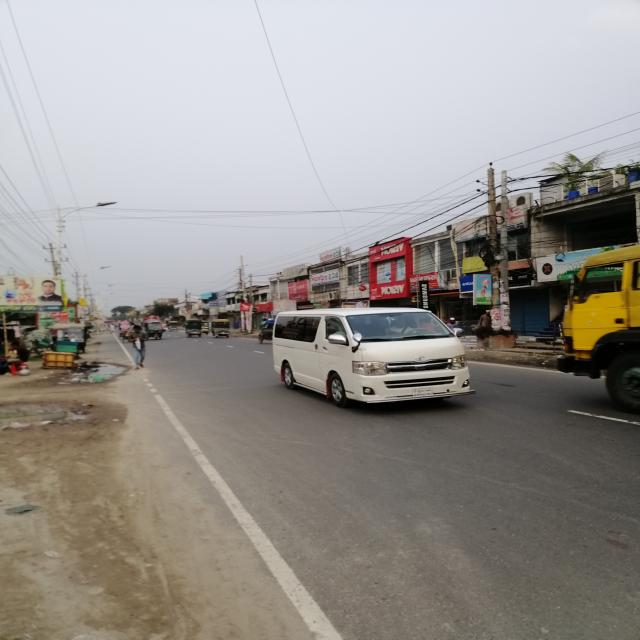Micro-Bus: (274, 307, 477, 416)
